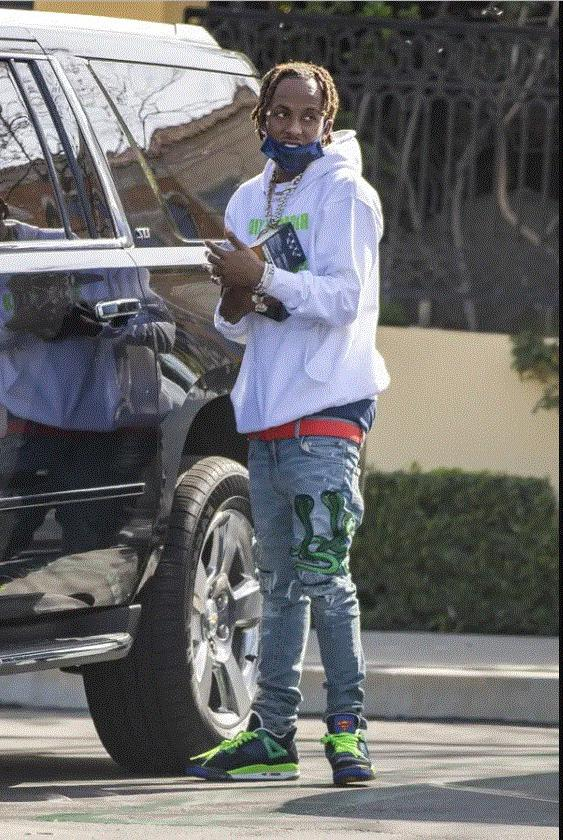mask_weared_incorrect: (266, 92, 321, 167)
